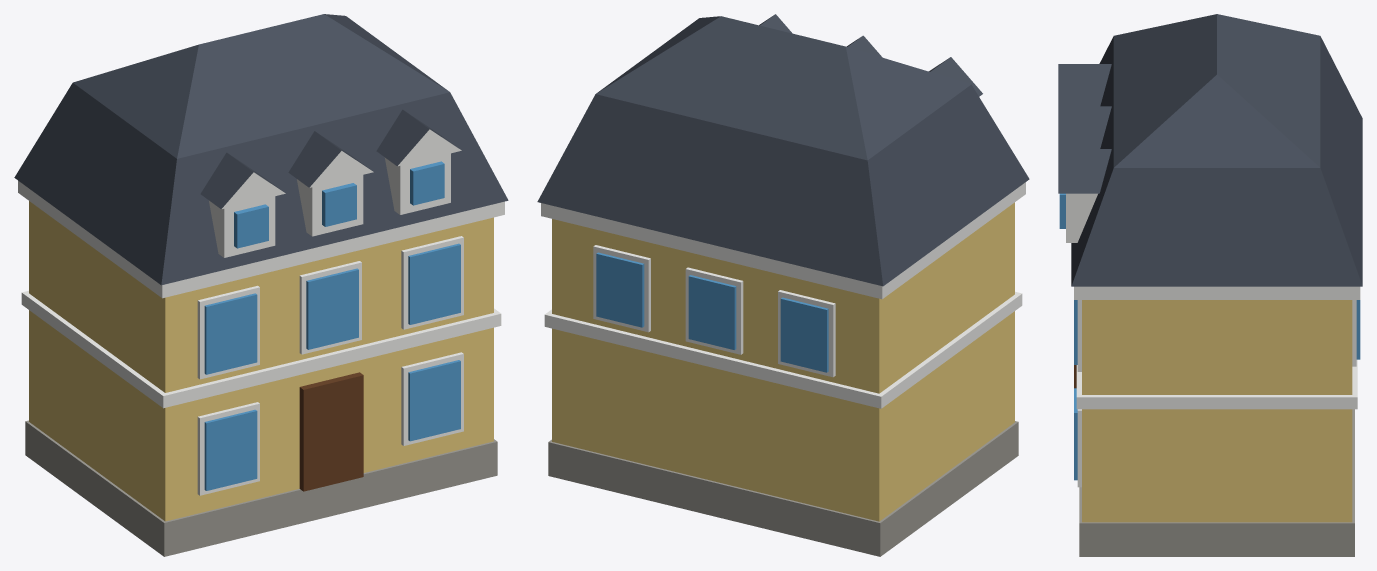
File: 28_baroque_mansard_1.obj
The picture shows the model from 3 angles, left to right: view 1: azimuth 30°, elevation 25°; view 2: azimuth 150°, elevation 25°; view 3: azimuth 270°, elevation 25°; orthographic projection.
Parts seen in each view (by area): view 1: 28_baroque_mansard_1; view 2: 28_baroque_mansard_1; view 3: 28_baroque_mansard_1.
Part boxes in pixels (x1,y1,x2,y2): 28_baroque_mansard_1: (14, 14, 508, 556); 28_baroque_mansard_1: (537, 14, 1029, 556); 28_baroque_mansard_1: (1058, 14, 1362, 556).
Bounding box in the file's own units: 1.5 × 1.8 × 1.15.
